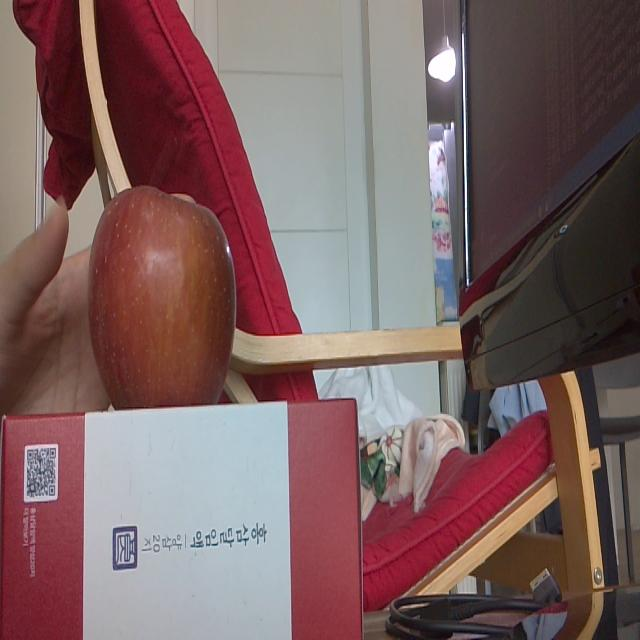apple: (86, 187, 236, 411)
